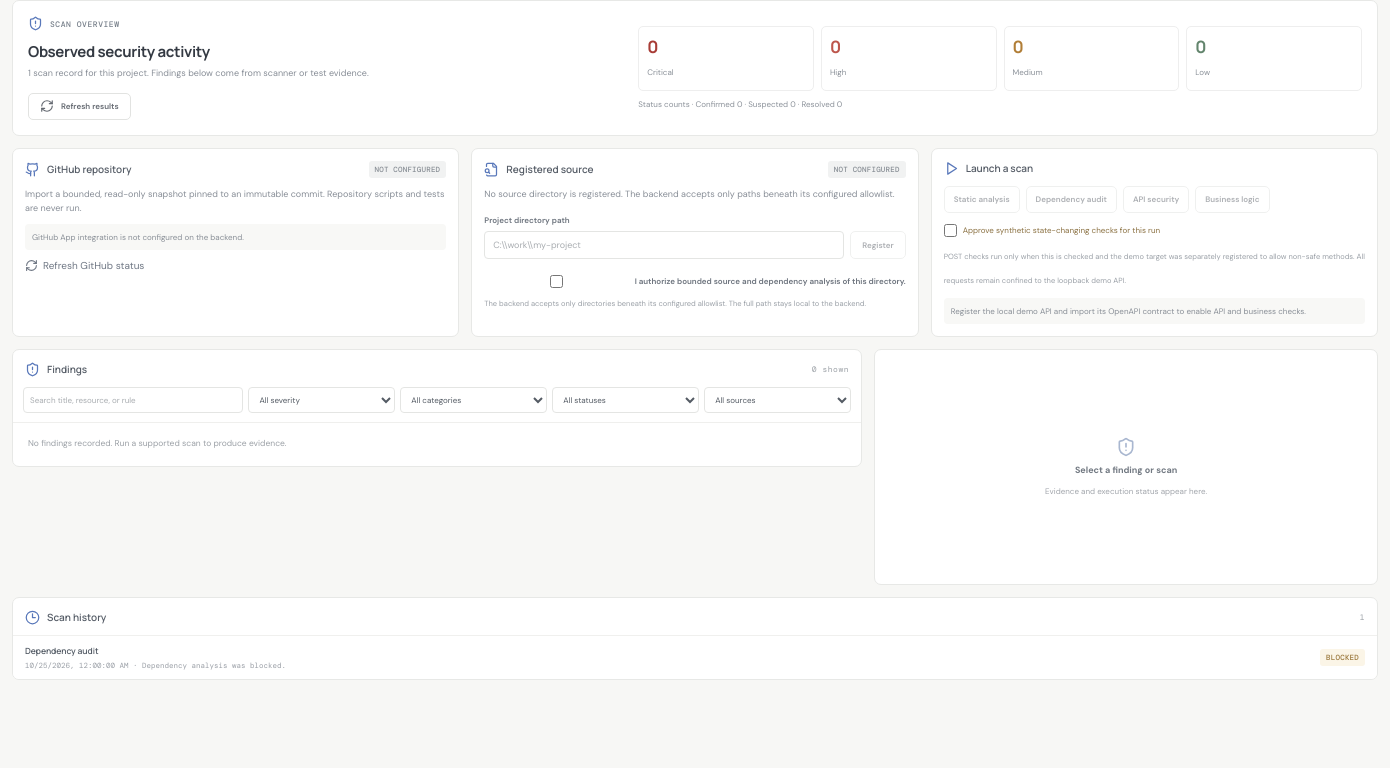
it: Security Center › shows blocked scanner details and execution errors from a real scan record
The image size is (1390, 768).
Step 1. Click the 8th button → coordinates (62, 651), box top-left (13, 635), bottom-right (1377, 679)
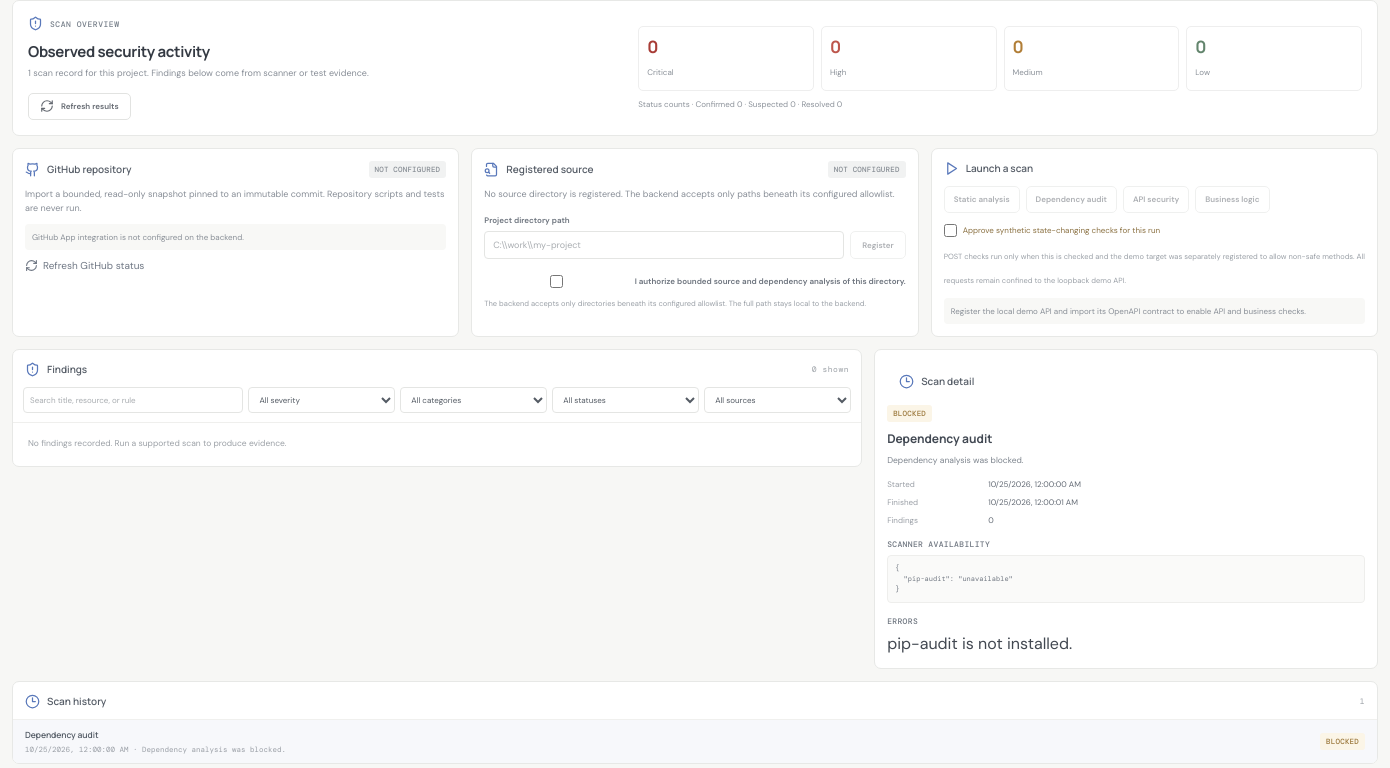
Expected: the text "Blocked" below "Scan detail" is shown, top-left (893, 409), bottom-right (926, 418)
Expected: the list item "pip-audit is not installed." is shown, top-left (887, 633), bottom-right (1072, 654)
